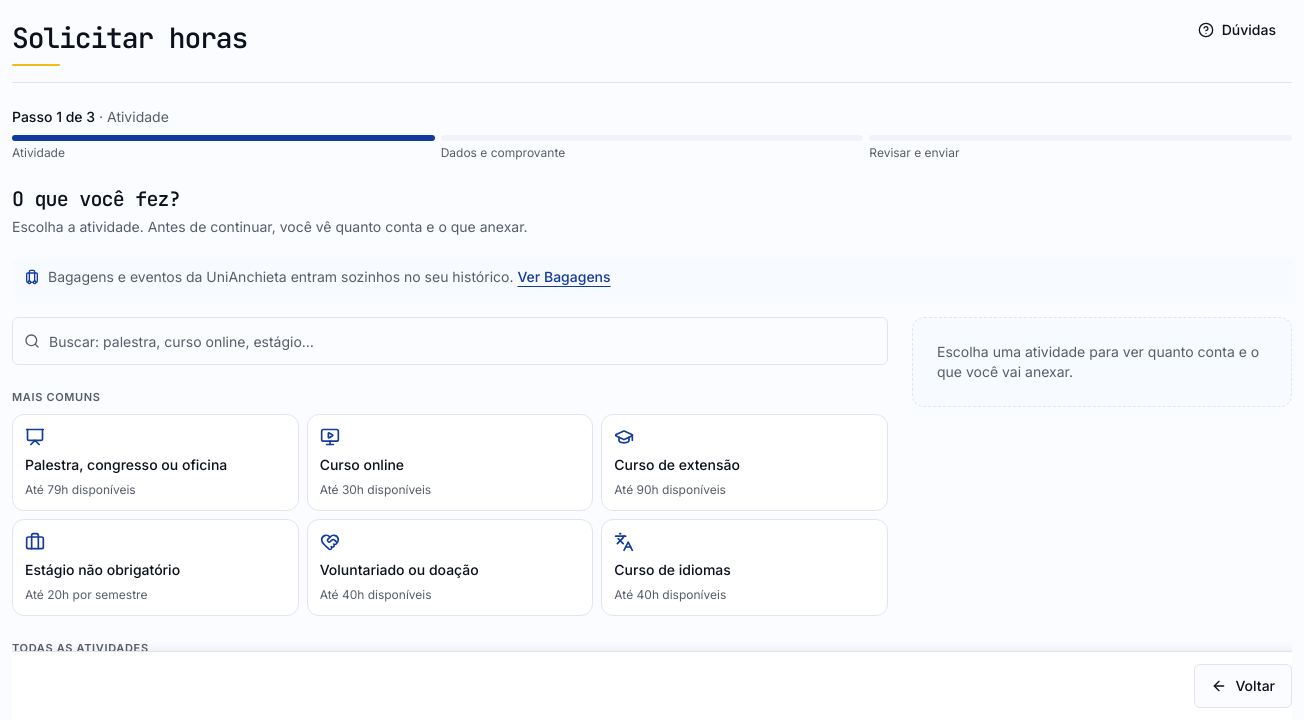
Solicitação › busca sem acento e mostra o saldo do tipo antes de continuar
Type "estagio" into the search field named "Buscar atividade" at [450, 341], box x1=12 y1=317 x2=888 y2=365
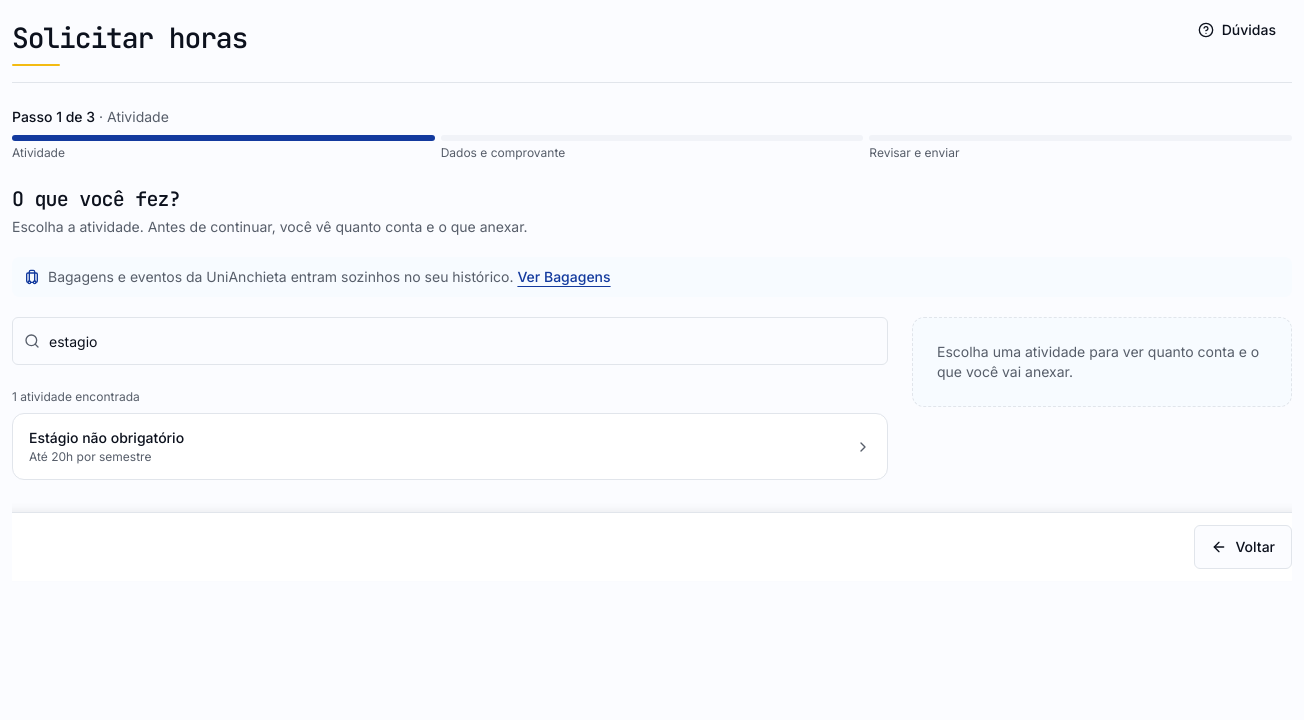
Expected: the button "Estágio não obrigatório Até 20h por semestre" is shown, x1=17 y1=418 x2=883 y2=475
Replace the text in the search field named "Buscar atividade" with "curso online com tempo" at [450, 341], box x1=12 y1=317 x2=888 y2=365
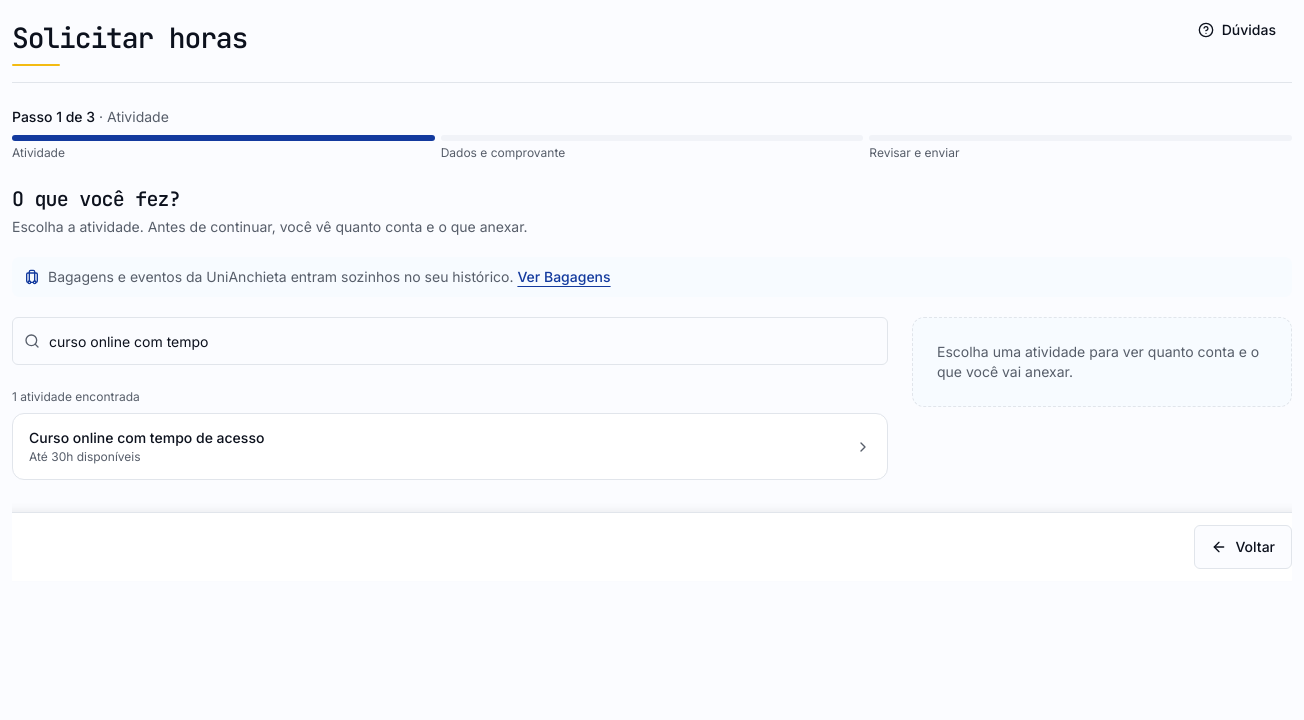
Now the button "Curso online com tempo de acesso Até 30h disponíveis" is shown, box x1=17 y1=418 x2=883 y2=475
